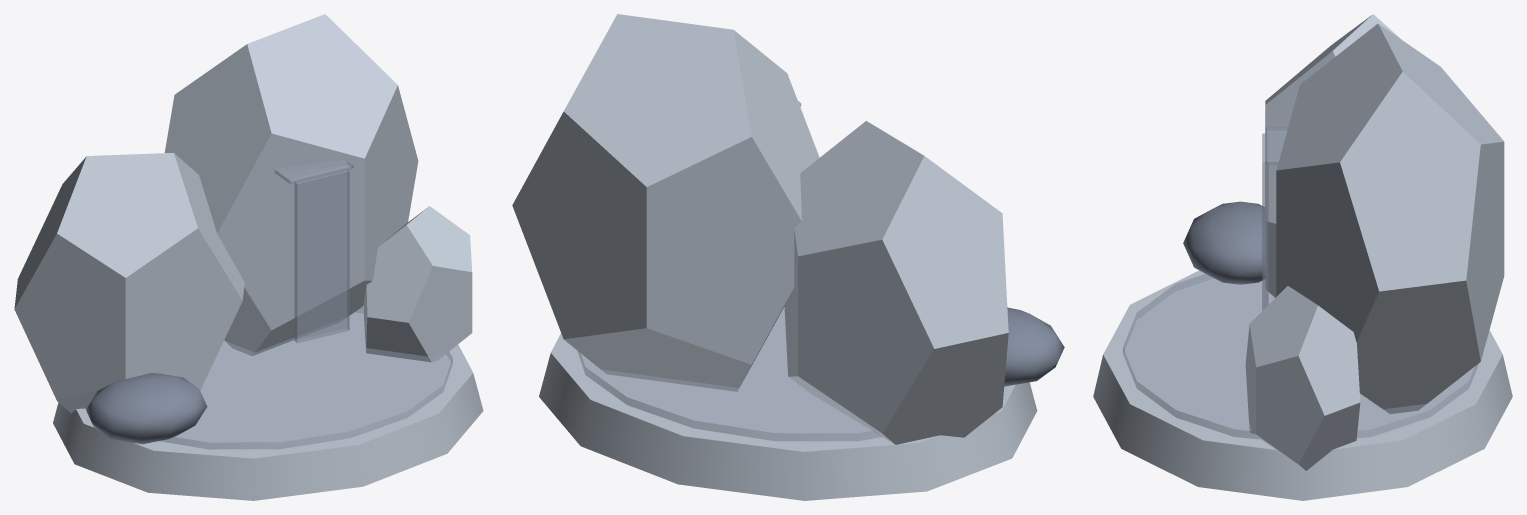
The model's file is 假山水景-lite.glb.
3 views of the same model, side by side, from view 1: azimuth 30°, elevation 25°; view 2: azimuth 150°, elevation 25°; view 3: azimuth 270°, elevation 25° (orthographic). The views are drawn at different scales.
Visible parts, largest first — view 1: garden-rock-water; view 2: garden-rock-water; view 3: garden-rock-water.
Part boxes in pixels (x1,y1,x2,y2): garden-rock-water: (14, 14, 483, 500); garden-rock-water: (512, 14, 1064, 500); garden-rock-water: (1093, 14, 1512, 500).
Bounding box in the file's own units: 2.1 × 1.6 × 1.6.
